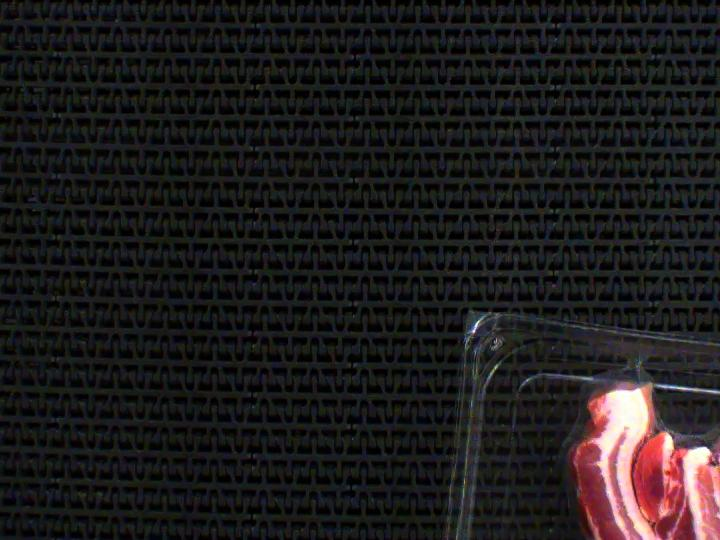unsealed: (537, 342, 720, 540)
